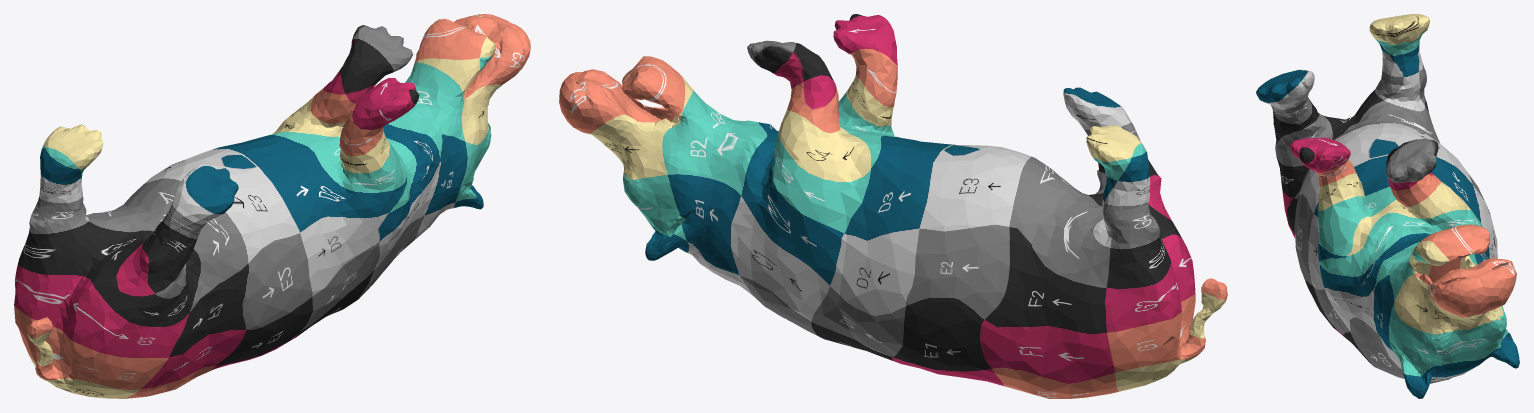
Rendered from horse_04-hippo_01.obj.
3 views of the same model, side by side, from view 1: azimuth 30°, elevation 25°; view 2: azimuth 150°, elevation 25°; view 3: azimuth 270°, elevation 25° (orthographic). The views are drawn at different scales.
Parts seen in each view (by area): view 1: horse_04-hippo_01_export; view 2: horse_04-hippo_01_export; view 3: horse_04-hippo_01_export.
Part boxes in pixels (x1,y1,x2,y2): horse_04-hippo_01_export: (14,14,530,398); horse_04-hippo_01_export: (559,14,1227,398); horse_04-hippo_01_export: (1256,14,1519,398).
Size of the model in its own units: 0.982 by 0.4752 by 0.402.
